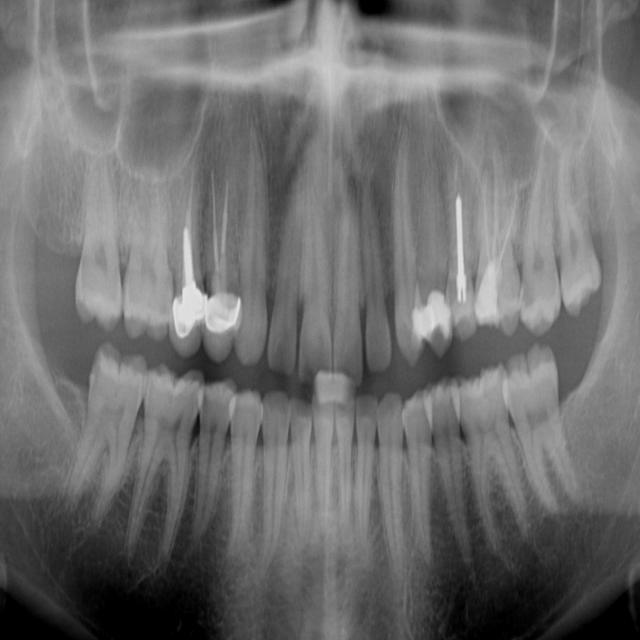dolgu: (416, 288, 452, 338)
kanal-tedavisi: (169, 170, 209, 307), (476, 163, 517, 268), (203, 174, 236, 296), (449, 176, 477, 309)
kaplama: (164, 285, 208, 338), (206, 293, 242, 330)
